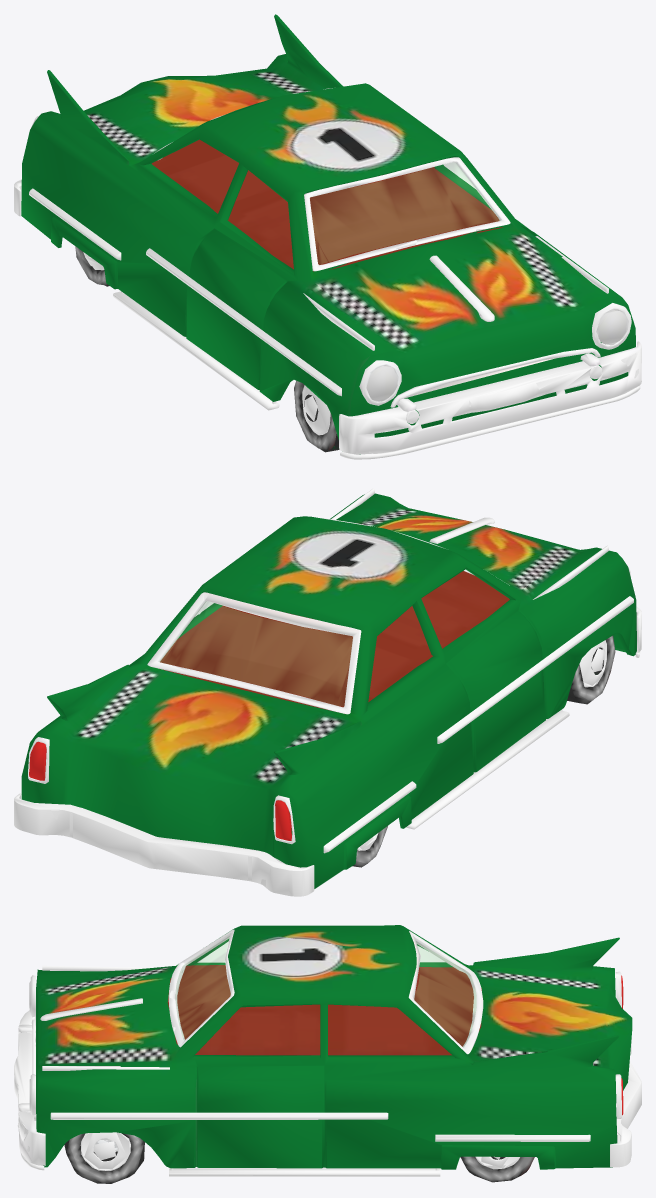
File: toycar.m.glb
3 renders of one model, top to bottom at view 1: azimuth 30°, elevation 25°; view 2: azimuth 150°, elevation 25°; view 3: azimuth 270°, elevation 25°, orthographic. The views are drawn at different scales.
Visible parts, largest first — view 1: ToyCar, Glass; view 2: ToyCar, Glass; view 3: ToyCar, Glass.
Part boxes in pixels (x1,y1,x2,y2): ToyCar: (14, 14, 641, 459); Glass: (310, 162, 499, 264); ToyCar: (14, 488, 641, 896); Glass: (160, 601, 352, 706); ToyCar: (14, 925, 641, 1183); Glass: (175, 936, 476, 1046).
Bounding box in the file's own units: 0.039 × 0.0241 × 0.08.
2 materials, 1 textured.
